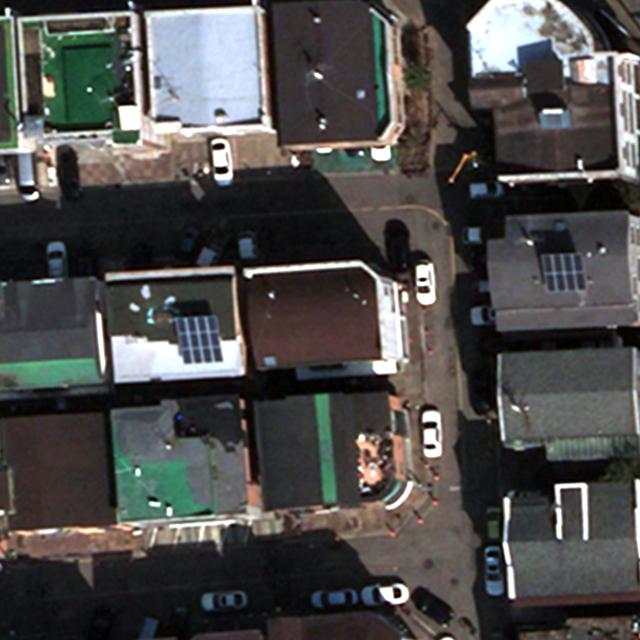panel: (173, 310, 227, 367), (537, 249, 588, 298)
